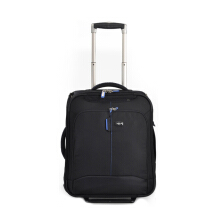luggage: (59, 20, 157, 204)
